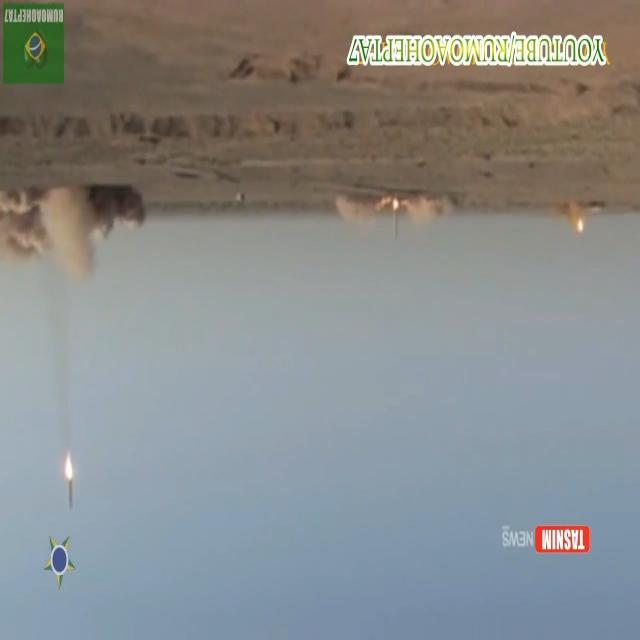Missile: (68, 459, 74, 517)
